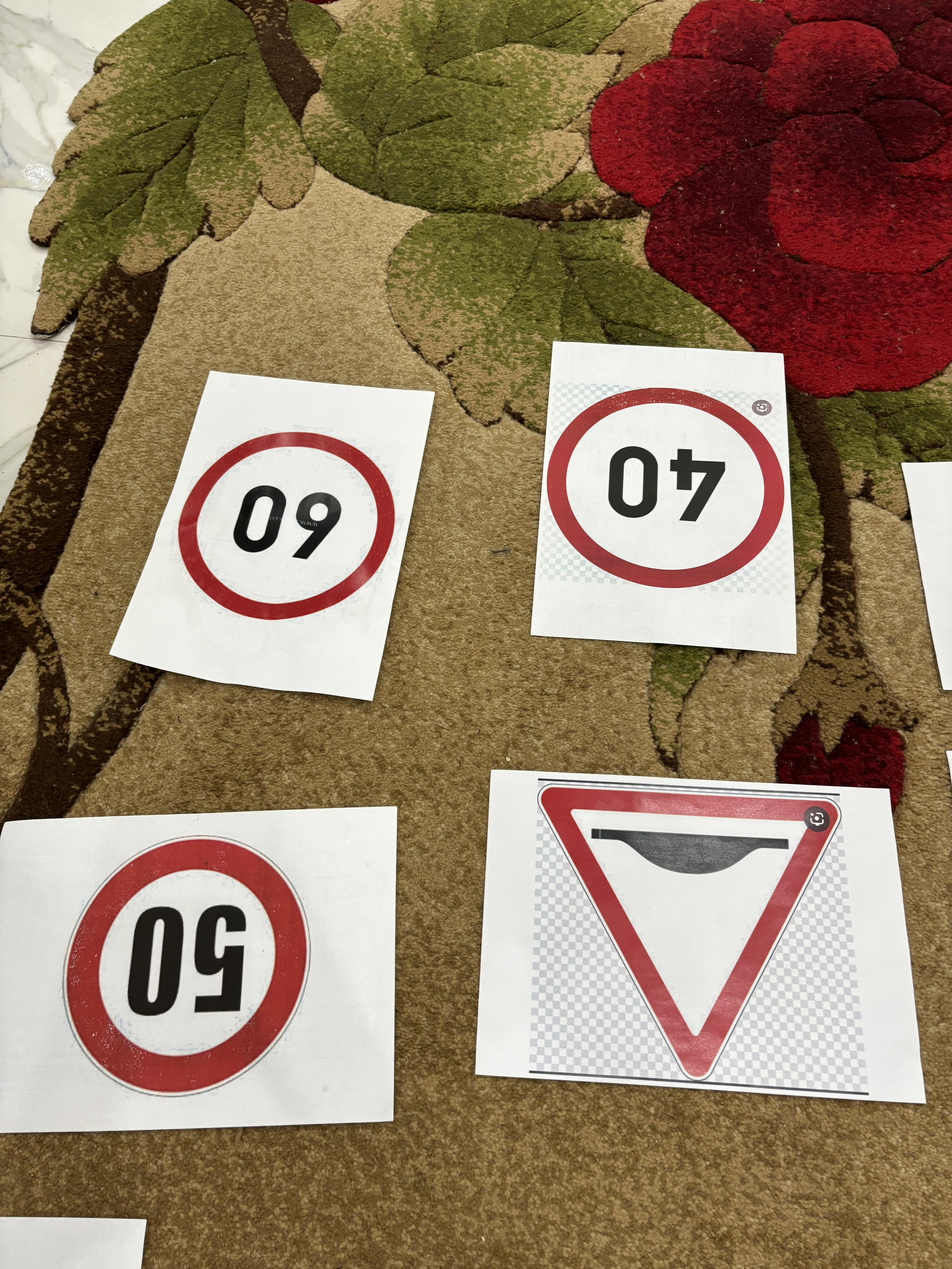40-Speed: (545, 383, 801, 577)
50-Speed: (58, 829, 319, 1100)
60-Speed: (167, 414, 408, 634)
Hump: (532, 754, 861, 1078)
